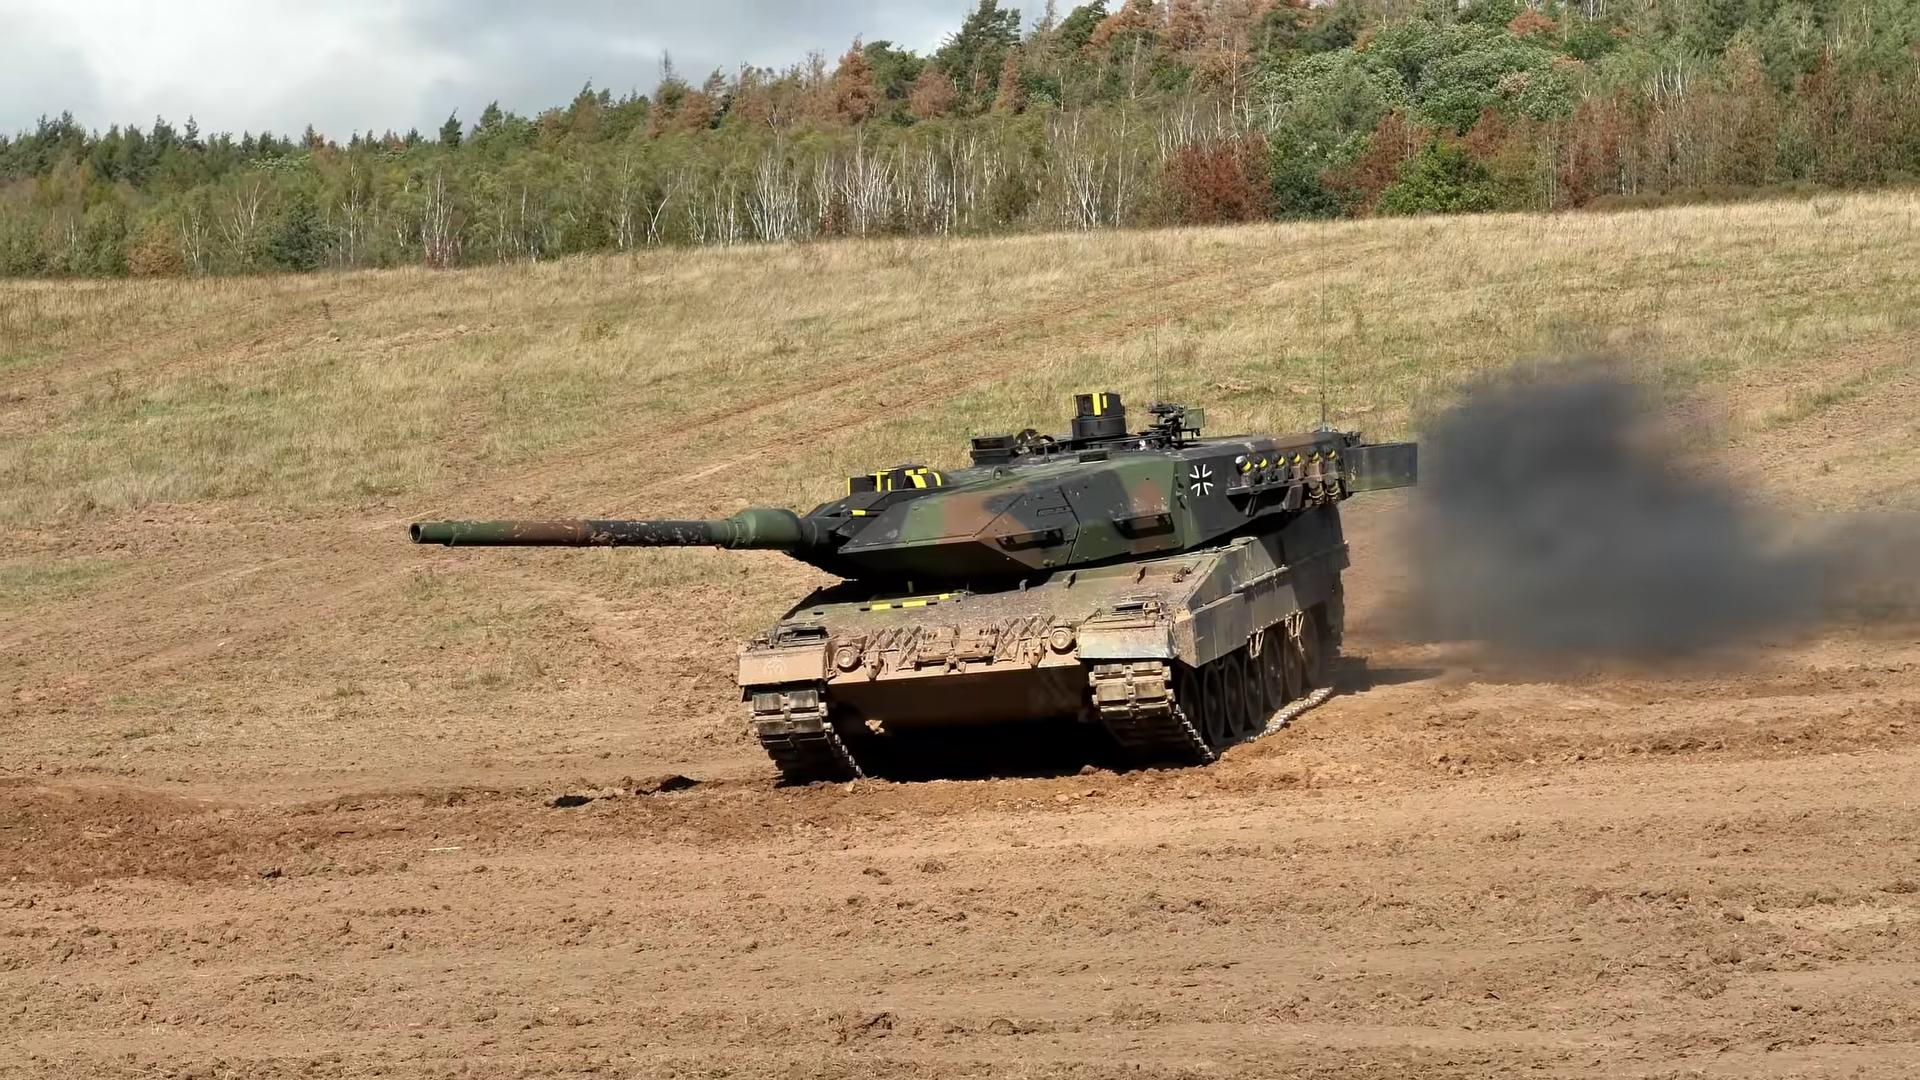tank: (413, 394, 1416, 775)
